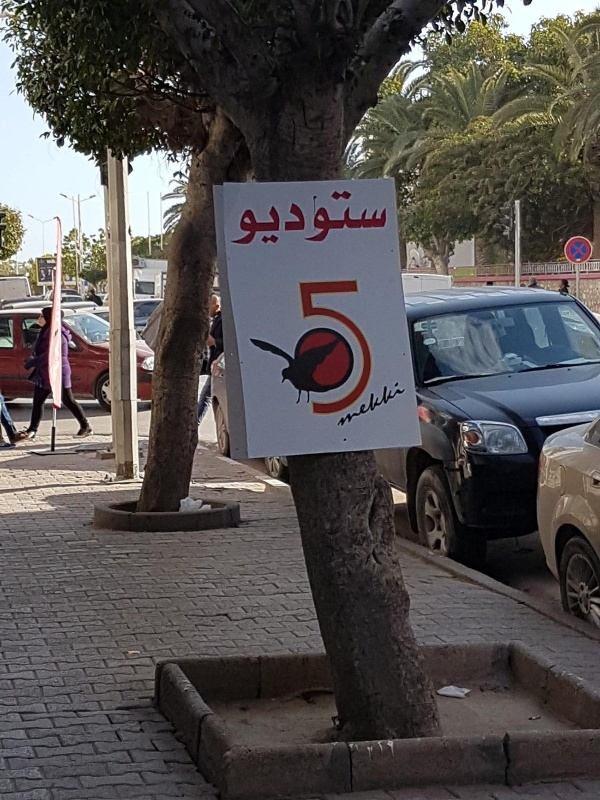text: (305, 280, 320, 424), (321, 280, 336, 424), (337, 280, 352, 424), (353, 280, 368, 424), (369, 280, 376, 424), (241, 190, 256, 247), (257, 190, 272, 247), (273, 190, 288, 247), (289, 190, 304, 247), (305, 190, 320, 247), (321, 190, 336, 247), (337, 190, 352, 247), (353, 190, 368, 247), (369, 190, 384, 247), (337, 377, 352, 433), (353, 377, 368, 433), (369, 377, 384, 433), (385, 377, 400, 433), (299, 280, 304, 424), (401, 377, 408, 433), (235, 190, 240, 247), (385, 190, 387, 247), (335, 377, 336, 433)
